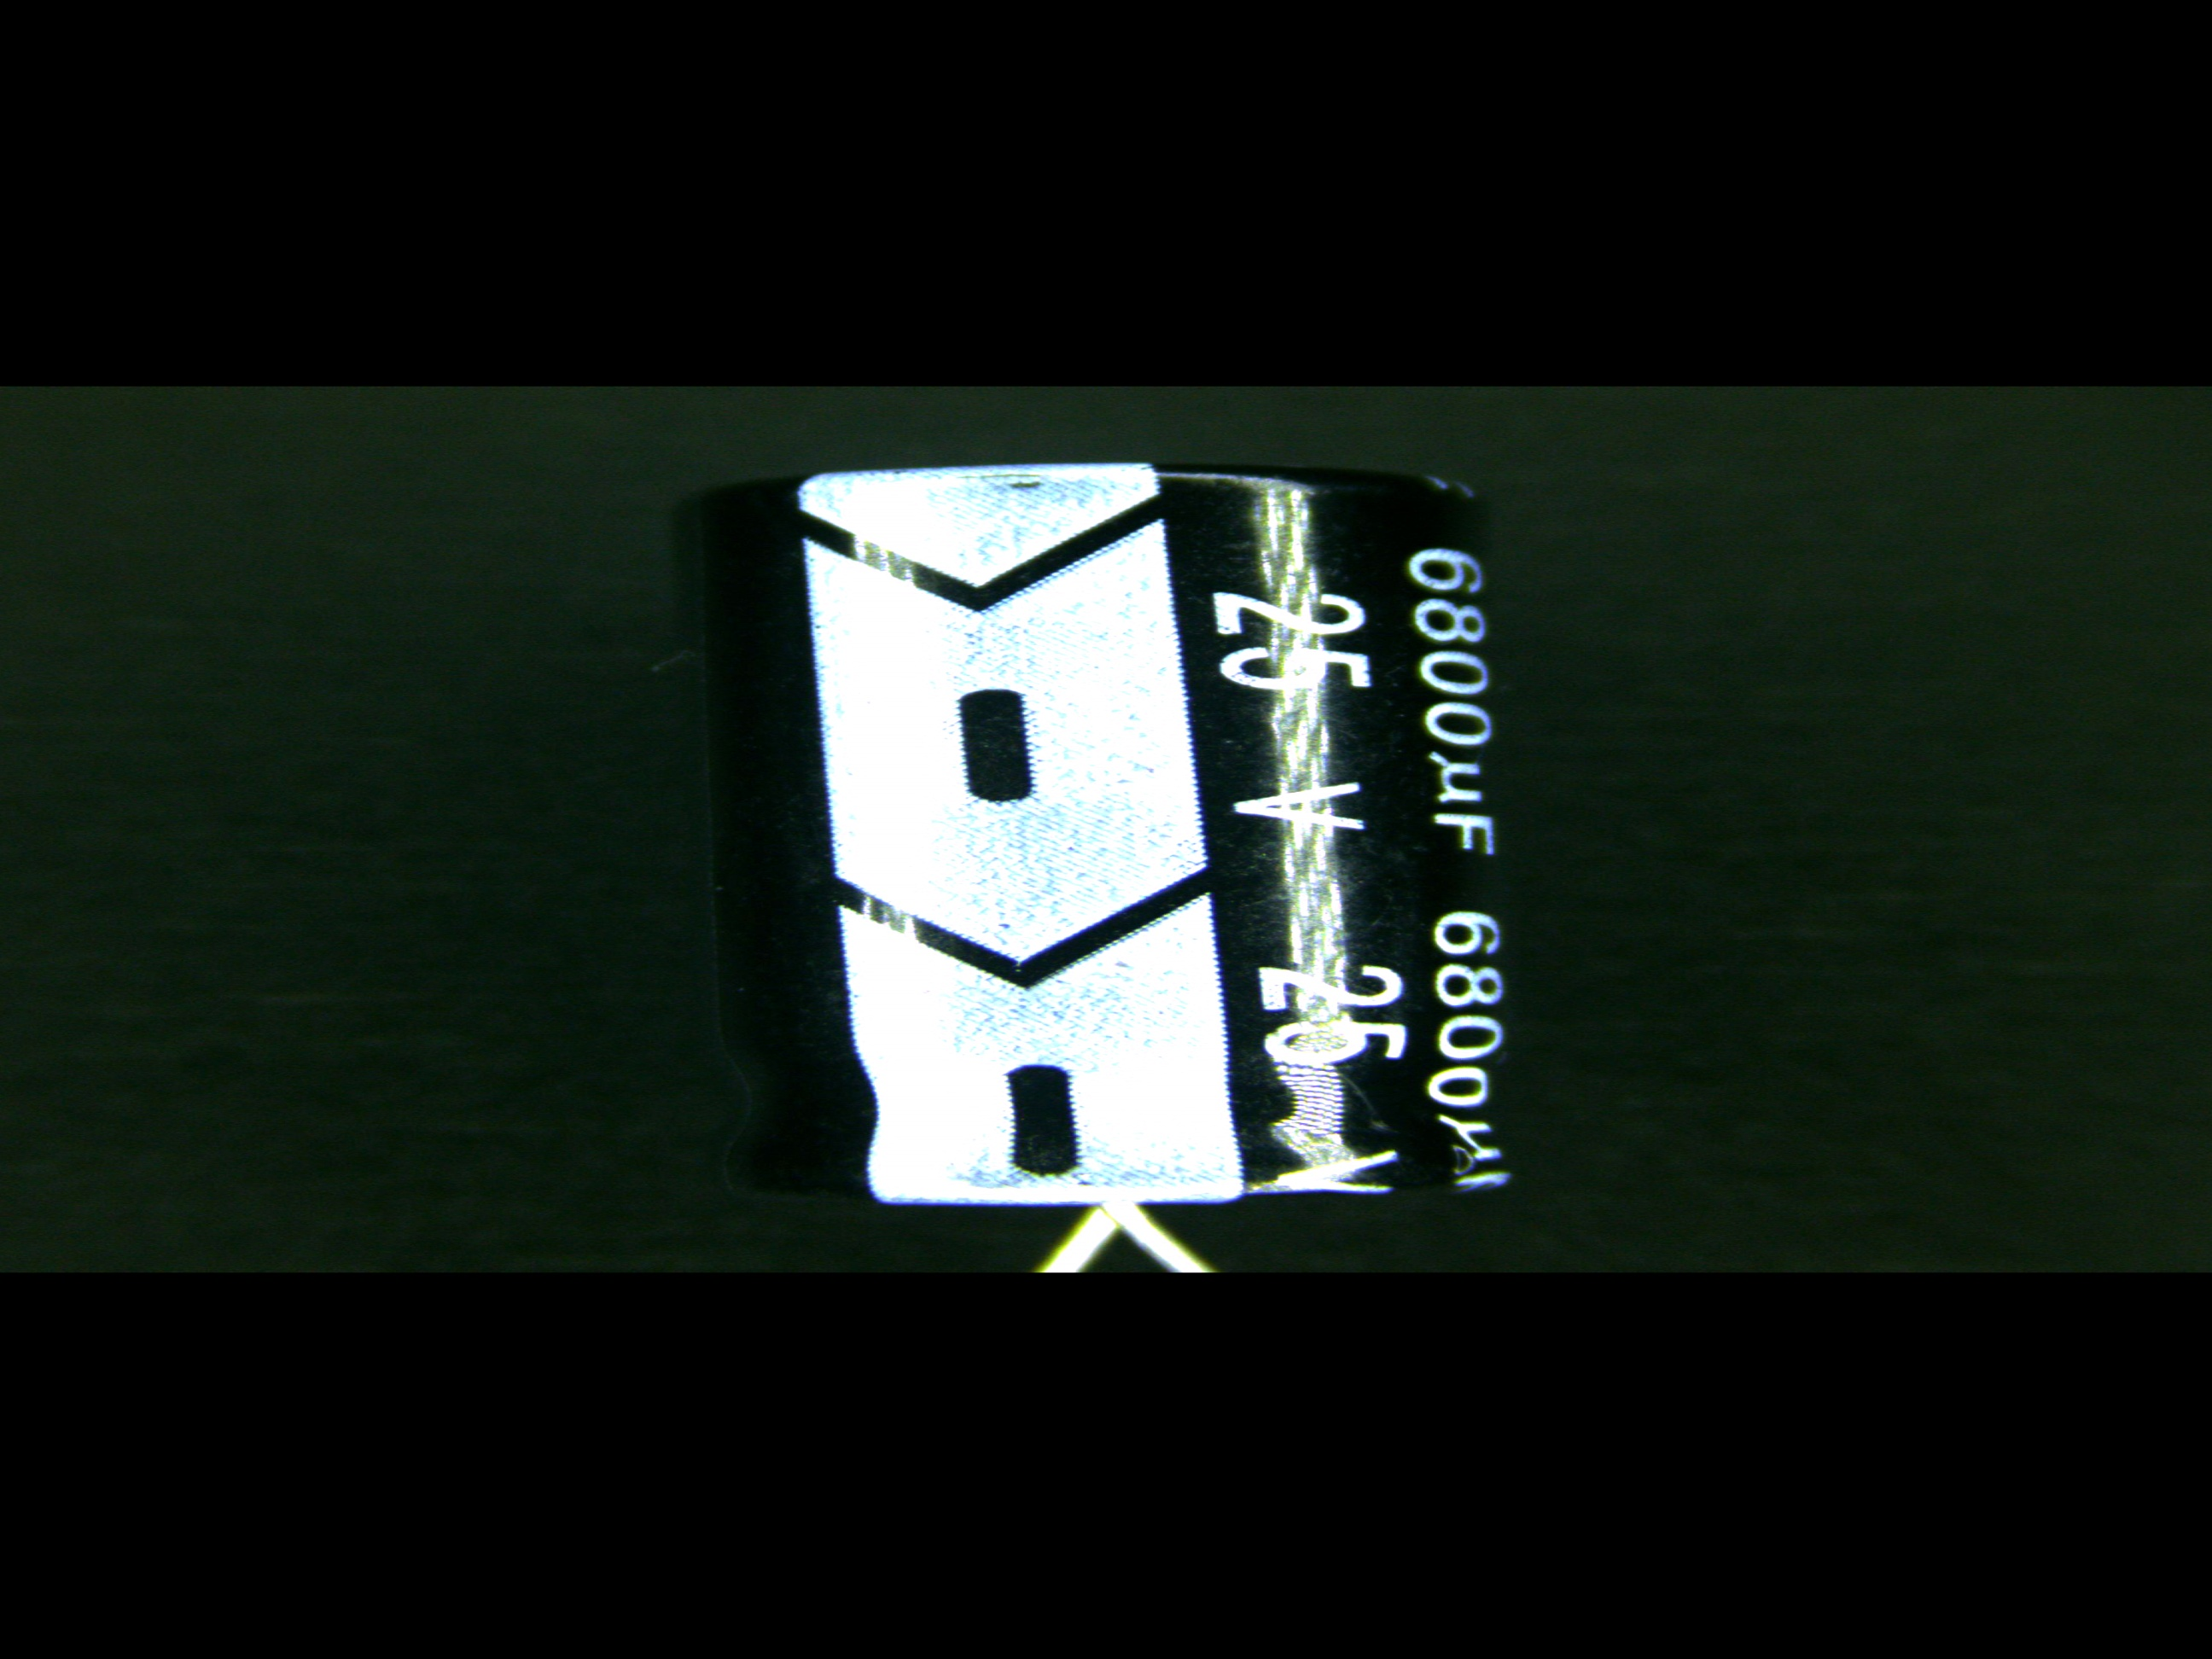c3: (685, 462, 1527, 1246)
